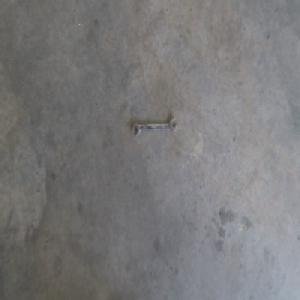Wrench: (131, 117, 177, 136)
